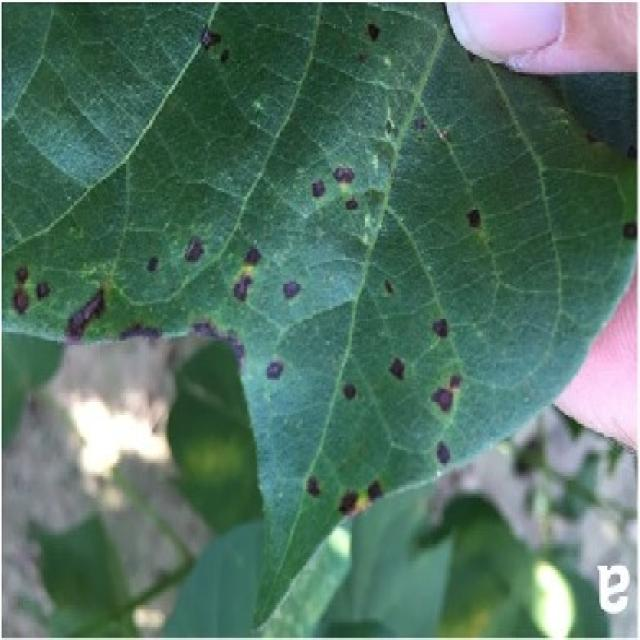Bacterial Blight: (11, 179, 460, 440)
